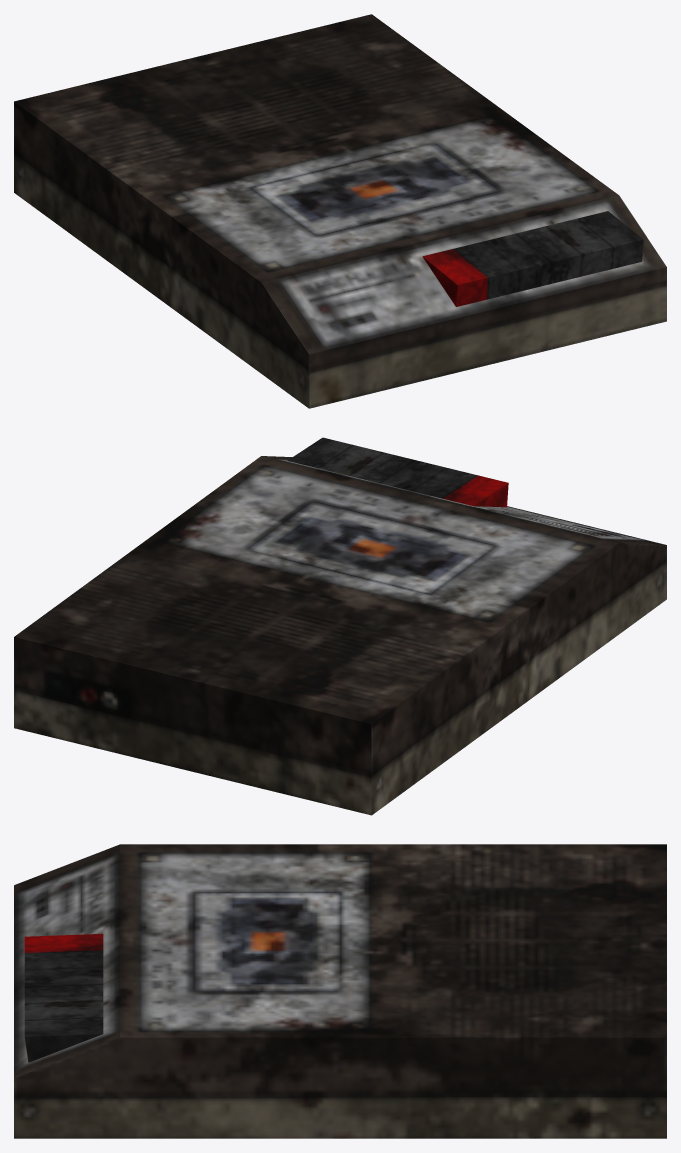
File: items_cassette_recorder.dae
The picture shows the model from 3 angles, top to bottom: view 1: azimuth 30°, elevation 25°; view 2: azimuth 150°, elevation 25°; view 3: azimuth 270°, elevation 25°; orthographic projection. The views are drawn at different scales.
Parts seen in each view (by area): view 1: pCube1; view 2: pCube1; view 3: pCube1.
Part boxes in pixels (left/top/right/bottom): pCube1: left=14, top=14, right=666, bottom=408; pCube1: left=14, top=437, right=666, bottom=815; pCube1: left=14, top=844, right=666, bottom=1138.
Size of what is drawn, in the model's own units: 0.3902 by 0.0951 by 0.5576.
